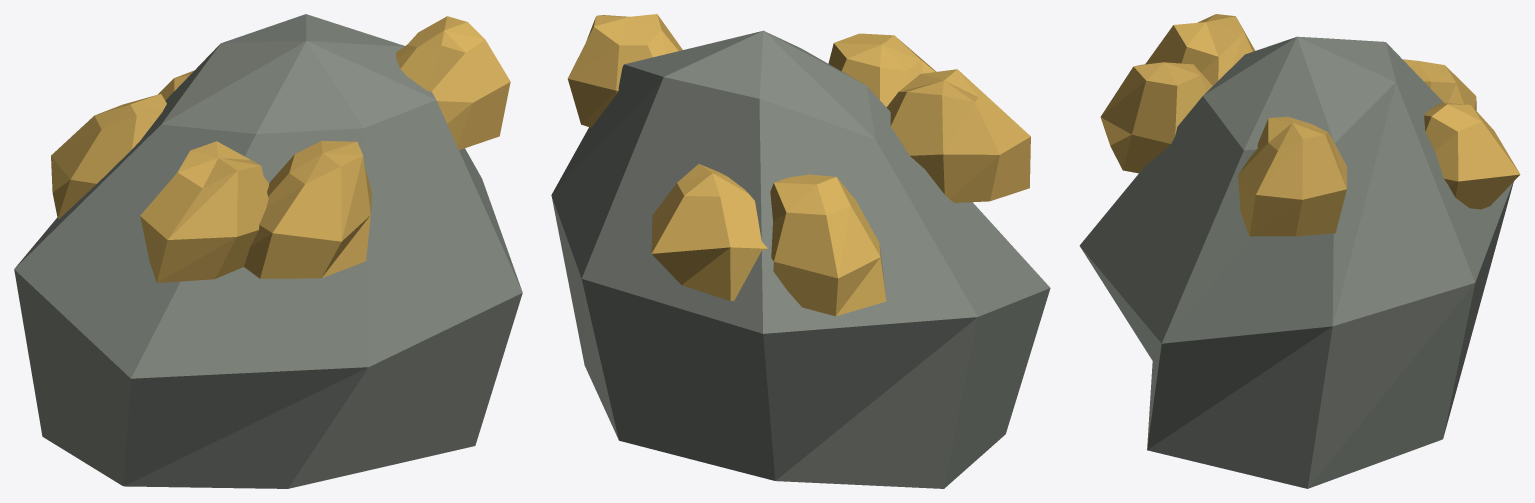
The model's file is gold_node.glb.
3 renders of one model, left to right at view 1: azimuth 30°, elevation 25°; view 2: azimuth 150°, elevation 25°; view 3: azimuth 270°, elevation 25°, orthographic.
Visible parts, largest first — view 1: gold_node; view 2: gold_node; view 3: gold_node.
Boxes of the visible parts, x1,y1,x2,y2 form: gold_node: (14,14,522,488); gold_node: (551,14,1050,488); gold_node: (1079,14,1520,488).
Size of the model in its own units: 1.57 by 1.25 by 1.36.
